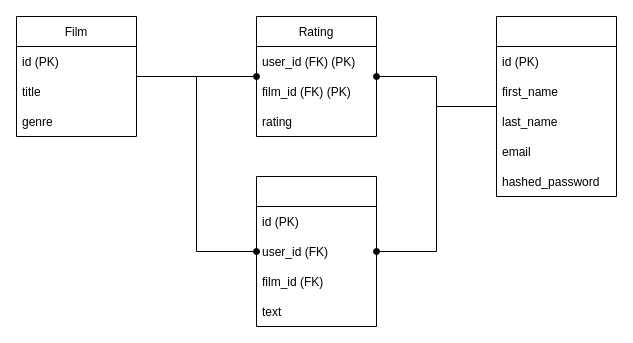
This 633x343 diagram has some shape labels left out. Each missing label, with the box of its shape:
Comment: (256, 176, 376, 326)
User: (496, 16, 616, 196)
